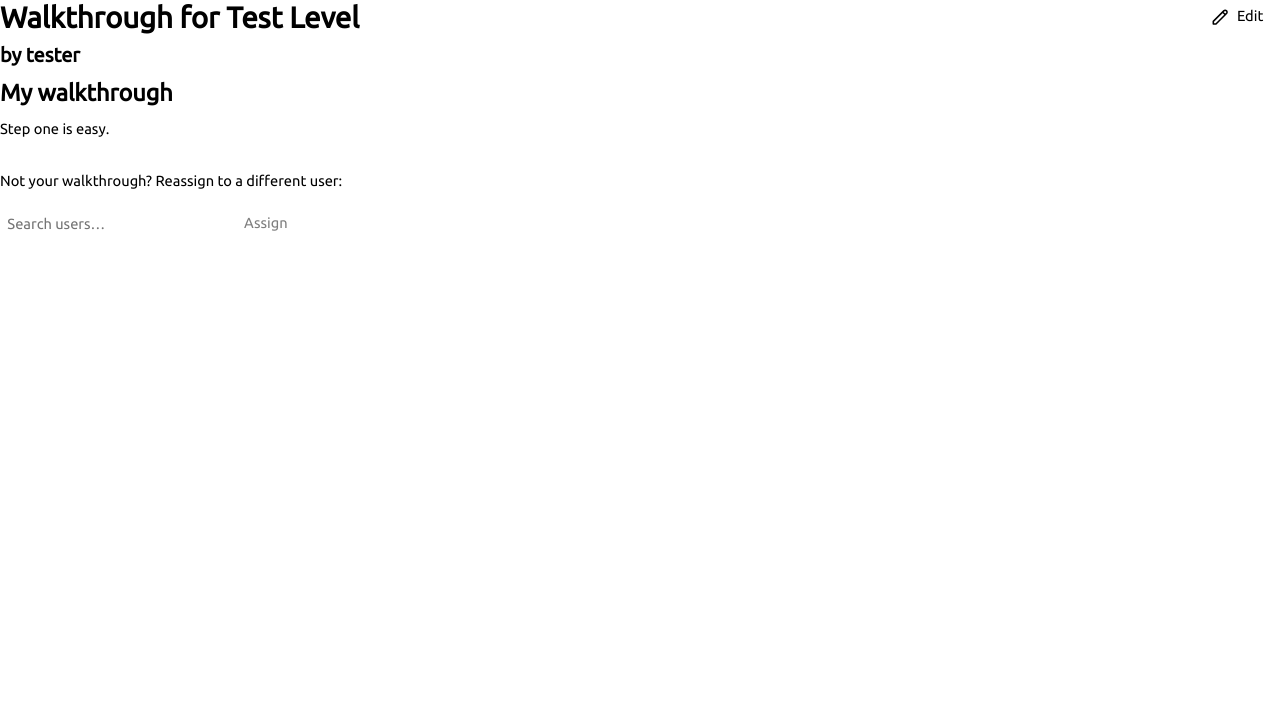
Test: WalkthroughPage › lets the owner reassign the walkthrough
The width and height of the screenshot is (1280, 720).
Type "right" into the field with placeholder "Search users…" at (110, 223), box top-left (0, 206), bottom-right (220, 240)
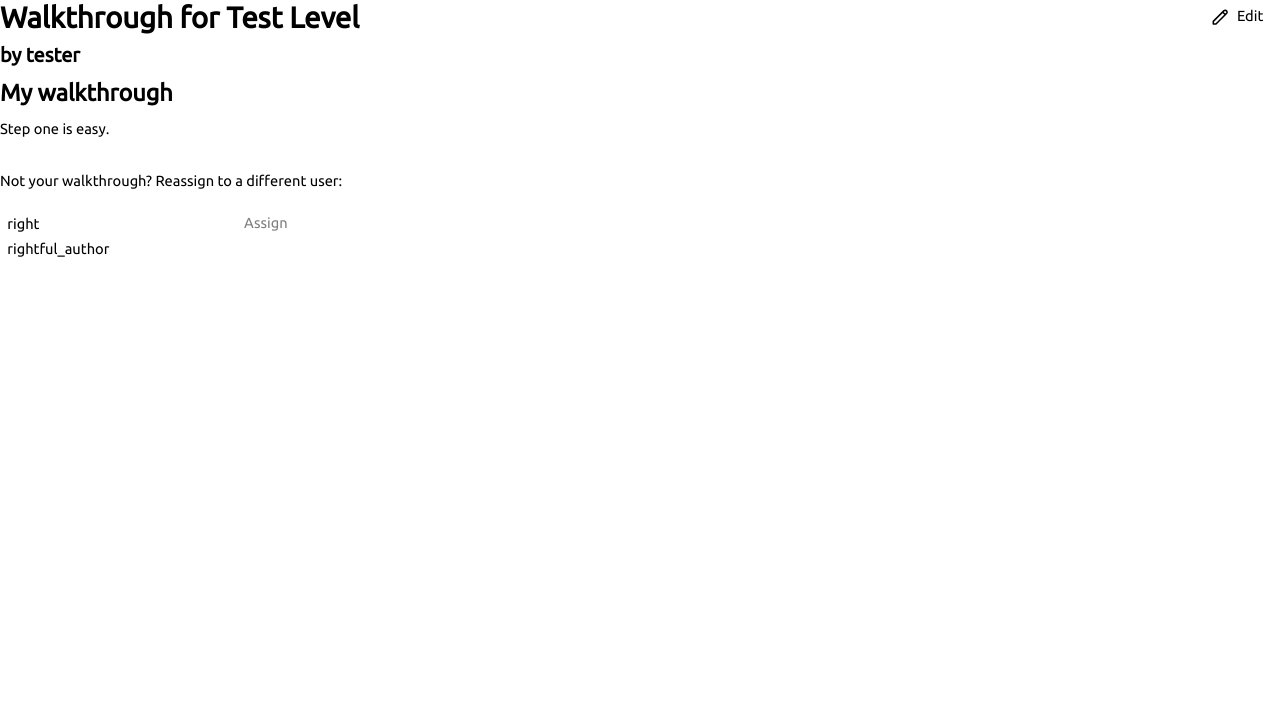
Click the list item "rightful_author" at (58, 248), box top-left (7, 240), bottom-right (109, 257)
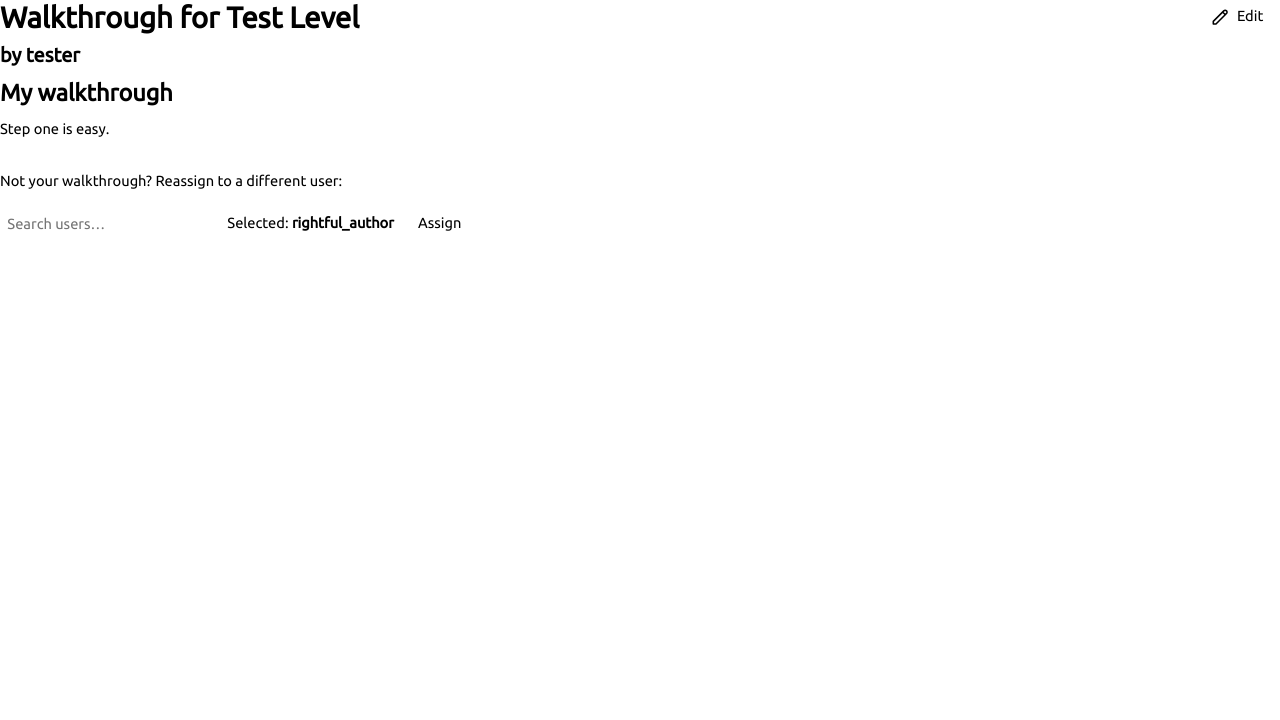
Click the link "Assign" at (440, 222), box top-left (418, 214), bottom-right (462, 231)
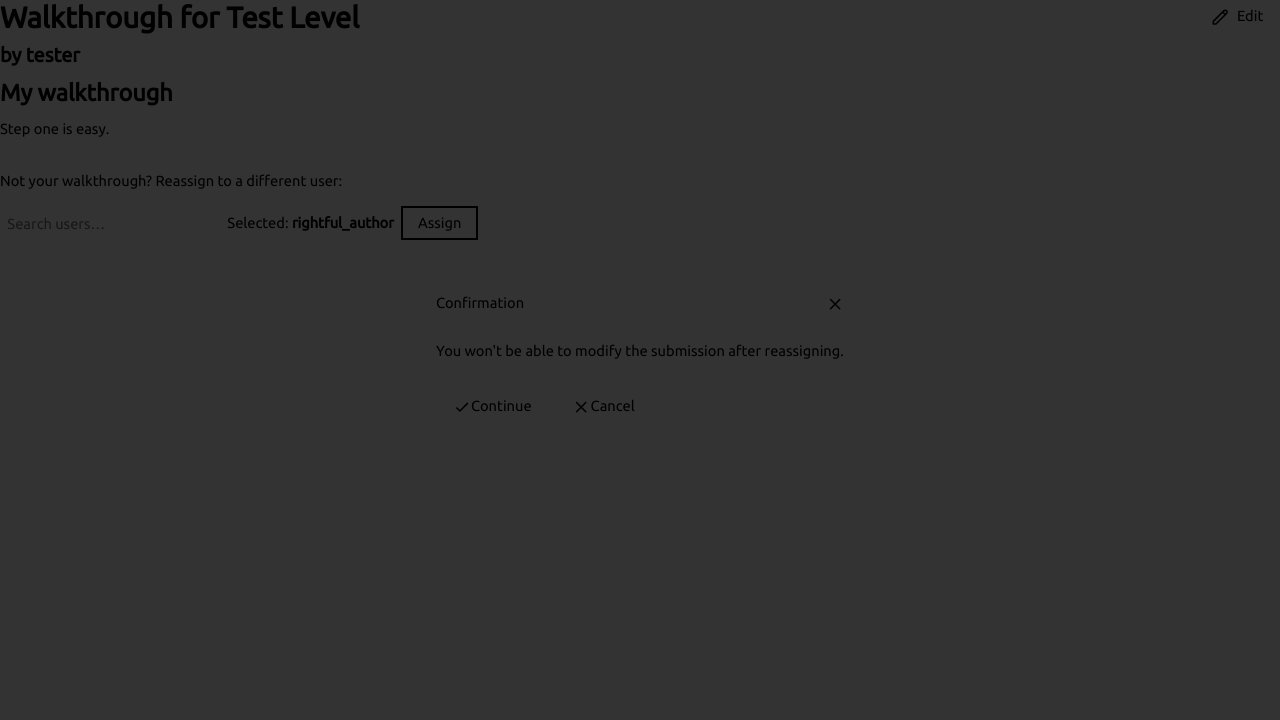
Now the text "won't be able to modify the submission" is shown, box top-left (436, 342), bottom-right (844, 359)
Click the link "Continue" at (492, 407), box top-left (453, 398), bottom-right (532, 417)
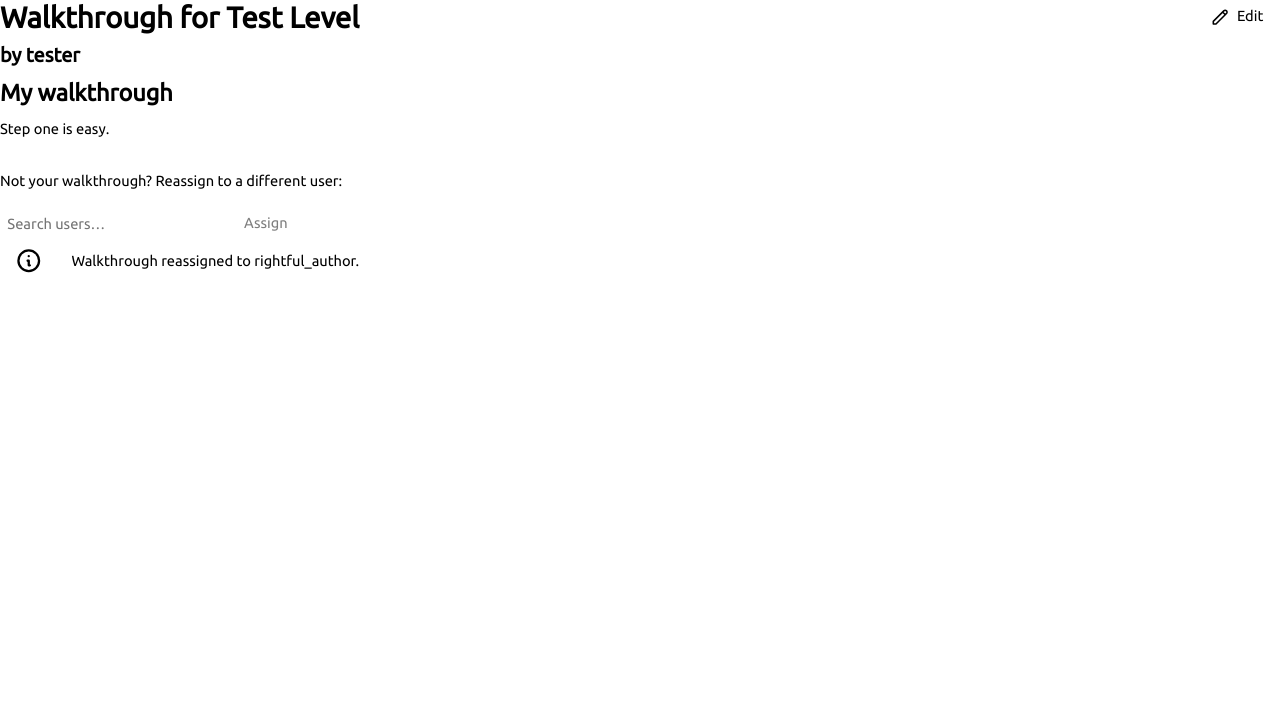
Now the text "Walkthrough reassigned to rightful_author." is shown, box top-left (72, 252), bottom-right (359, 269)
